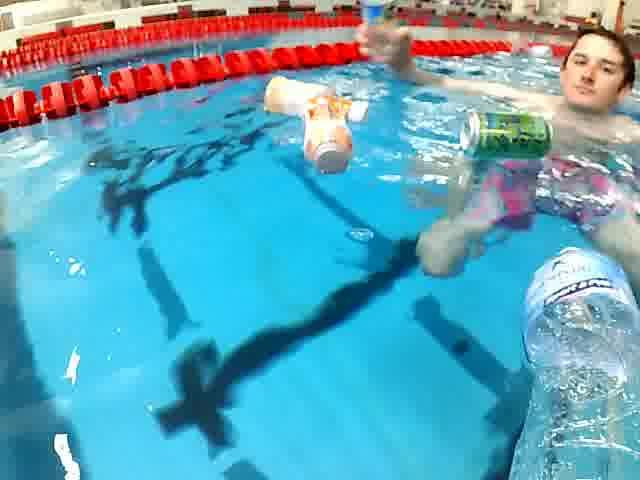Bottle: (508, 238, 640, 479), (257, 72, 375, 125), (301, 93, 358, 179)
Can: (449, 110, 559, 164)
